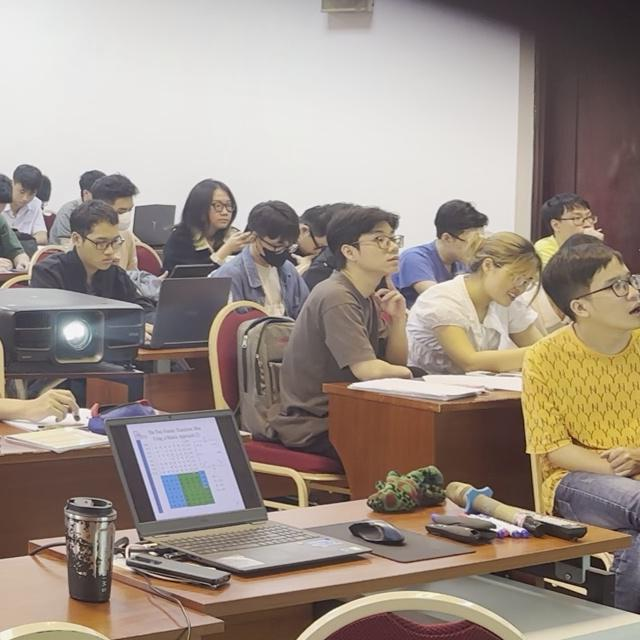Looking away: (483, 254, 537, 309), (80, 223, 122, 269), (255, 232, 297, 264), (12, 176, 36, 208)
Looking forward: (592, 255, 638, 331), (356, 224, 402, 274), (564, 200, 600, 237), (207, 183, 236, 228)
